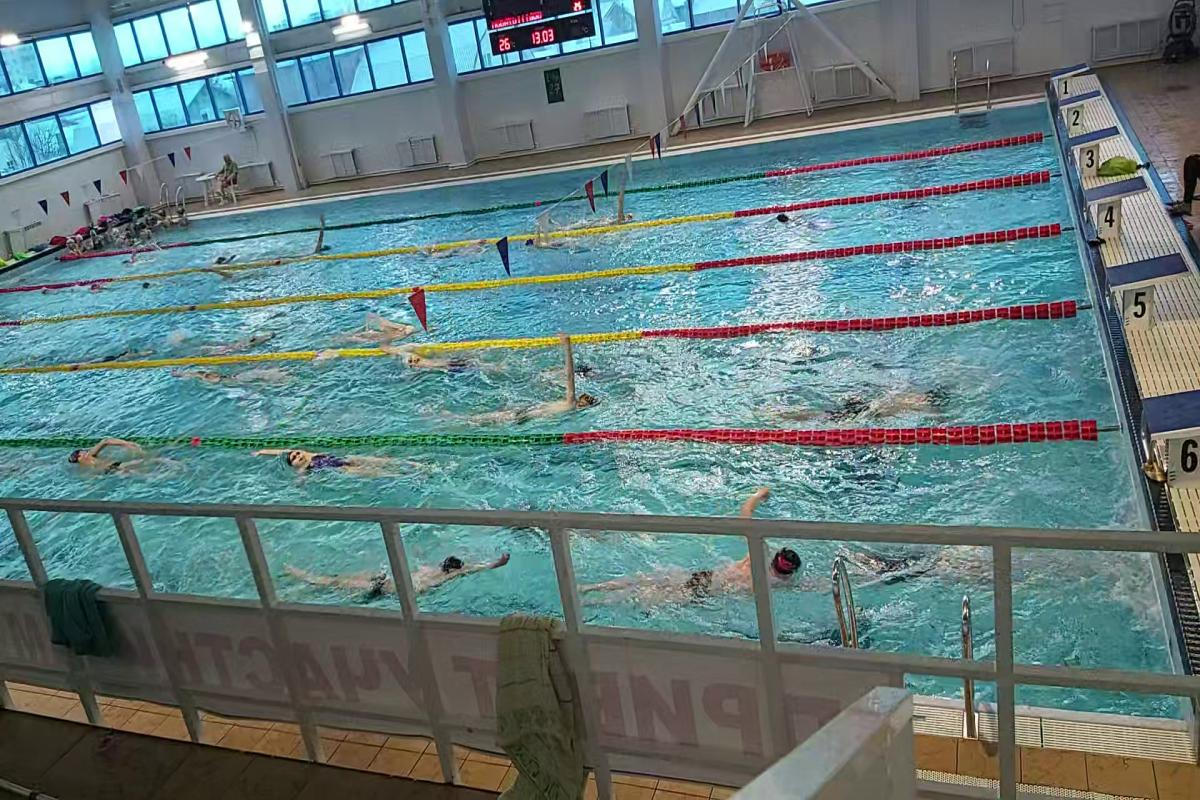swimmer: (293, 535, 504, 611), (583, 542, 750, 632), (845, 538, 1020, 594), (255, 436, 424, 490), (794, 387, 955, 429), (62, 434, 186, 485), (494, 379, 602, 437), (386, 339, 493, 386), (170, 367, 300, 392), (529, 222, 595, 265), (591, 193, 653, 229), (355, 310, 416, 342)
